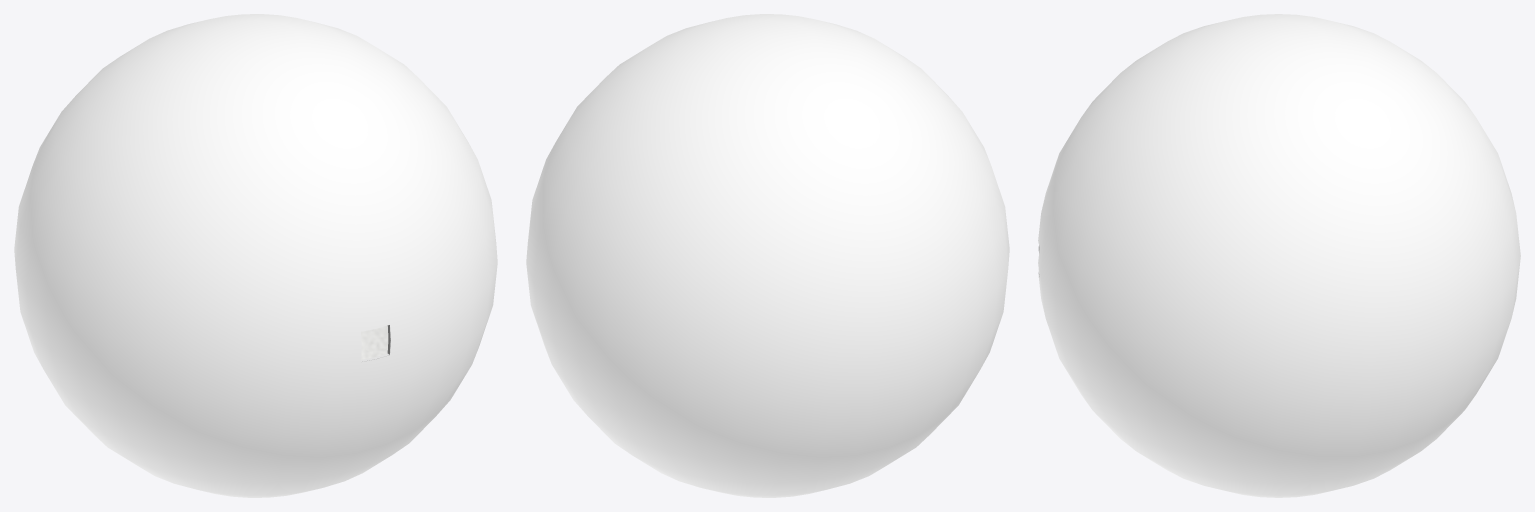
File: image-portal.glb
The picture shows the model from 3 angles, left to right: view 1: azimuth 30°, elevation 25°; view 2: azimuth 150°, elevation 25°; view 3: azimuth 270°, elevation 25°; orthographic projection.
Visible parts, largest first — view 1: occluder, photoSphere; view 2: occluder; view 3: occluder.
Boxes of the visible parts, left/top/right/bottom form: occluder: left=14, top=14, right=497, bottom=497; photoSphere: left=361, top=325, right=388, bottom=359; occluder: left=526, top=14, right=1009, bottom=497; occluder: left=1038, top=14, right=1520, bottom=497.
Bounding box in the file's own units: 14.44 × 14.44 × 14.39.
3 materials, 1 textured.
